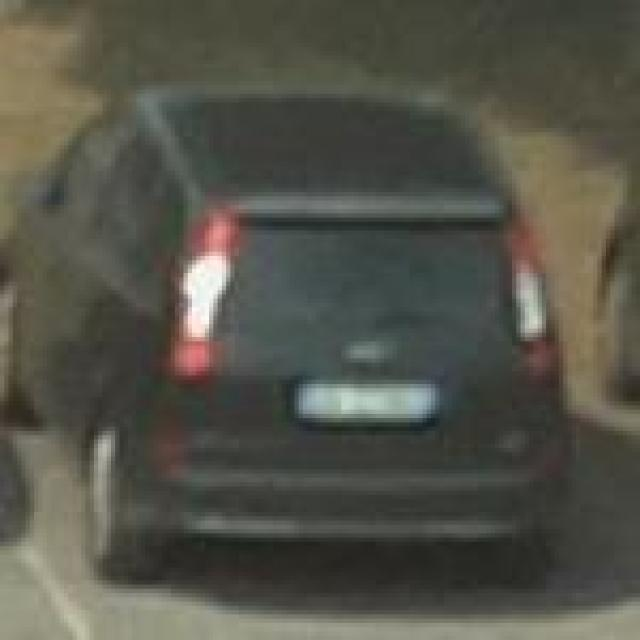cars-sUYr: (19, 66, 576, 618)
